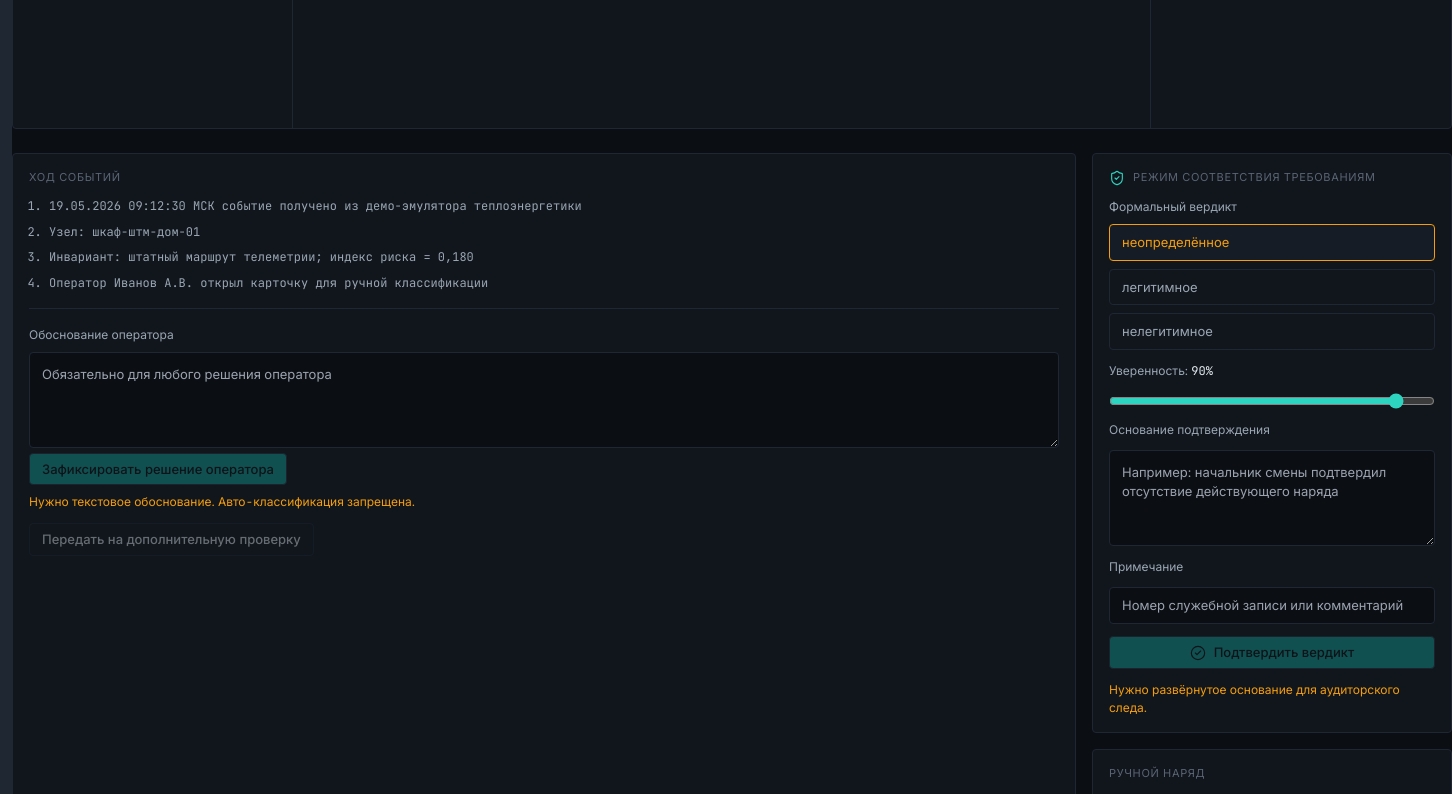
Scenario: CaseDetail operator decision › requires a reason before recording an operator decision
The width and height of the screenshot is (1452, 794).
(page scrolled)
Expected: the button with test id "case-decision-submit" is disabled, [29,453,287,485]
Type "Проверено по журналу смены и заявке сопровождения." into the text box with id "expected-reason".
click(544, 400); type("Проверено по журналу смены и заявке сопровождения.")  # box [29,352,1059,448]
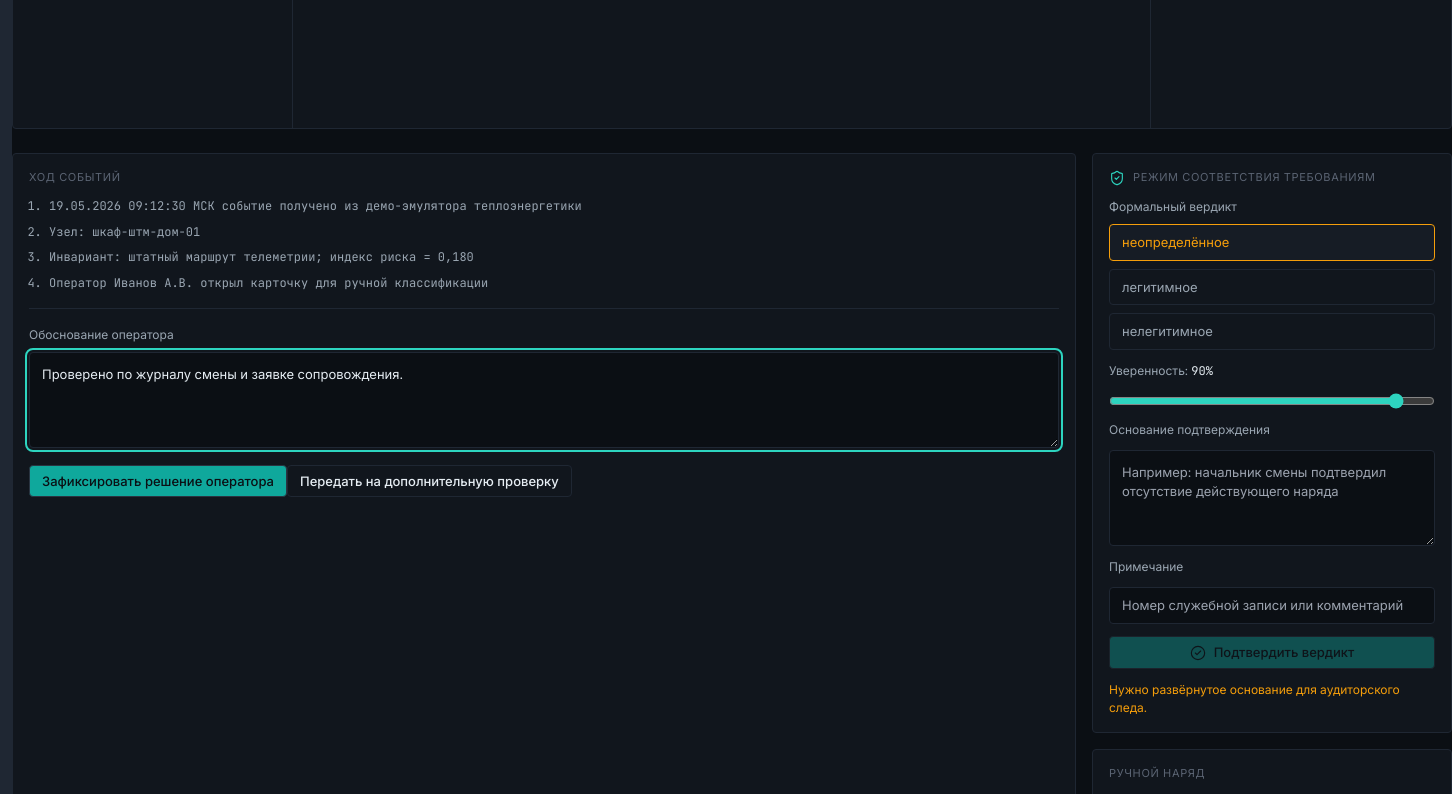
Expected: the button with test id "case-decision-submit" is enabled
Click the button with test id "case-decision-submit".
click(158, 481)  # box [29,465,287,497]
(page scrolled)
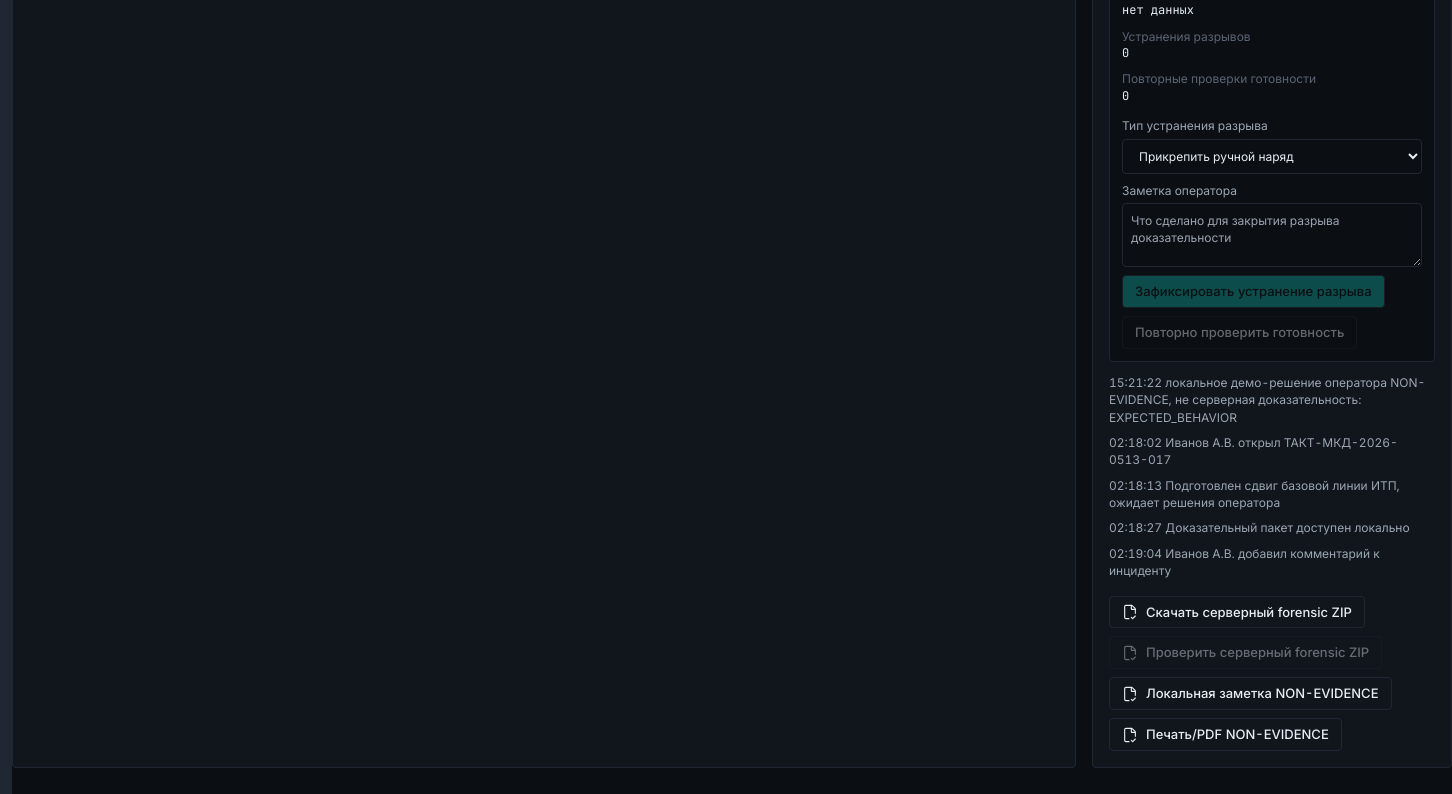
Expected: the list item "локальное демо-решение оператора NON-EVIDENCE" is shown, [1109,375,1425,424]
